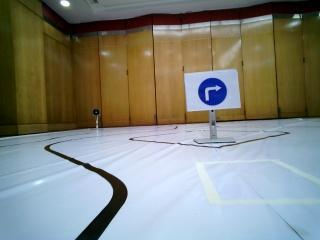right: (187, 74, 240, 106)
